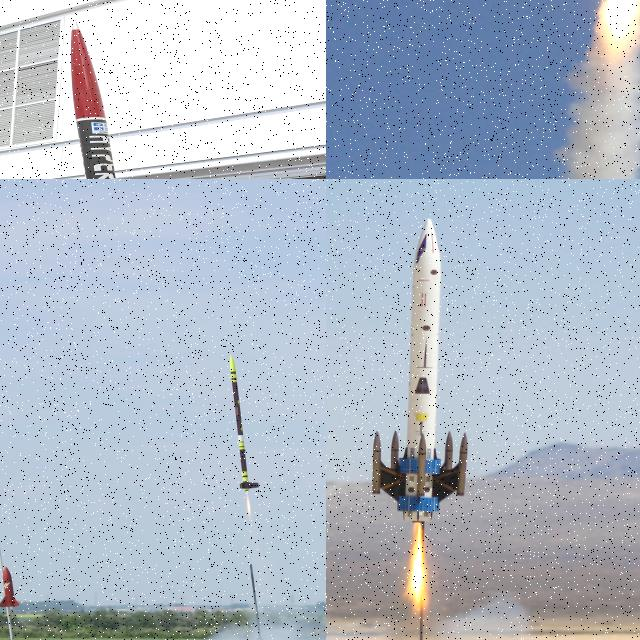Rocket: (369, 216, 471, 524), (71, 19, 115, 179), (229, 355, 259, 491)
